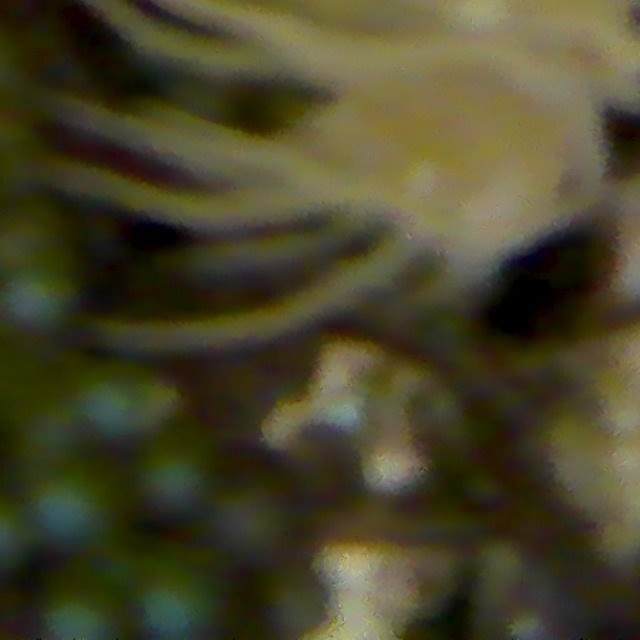SeaGrape: (26, 460, 109, 550), (210, 482, 292, 567), (1, 260, 69, 340), (262, 571, 336, 639), (114, 370, 186, 438), (141, 572, 219, 633), (0, 205, 63, 280), (145, 447, 206, 520), (40, 591, 119, 639), (77, 379, 133, 441)
